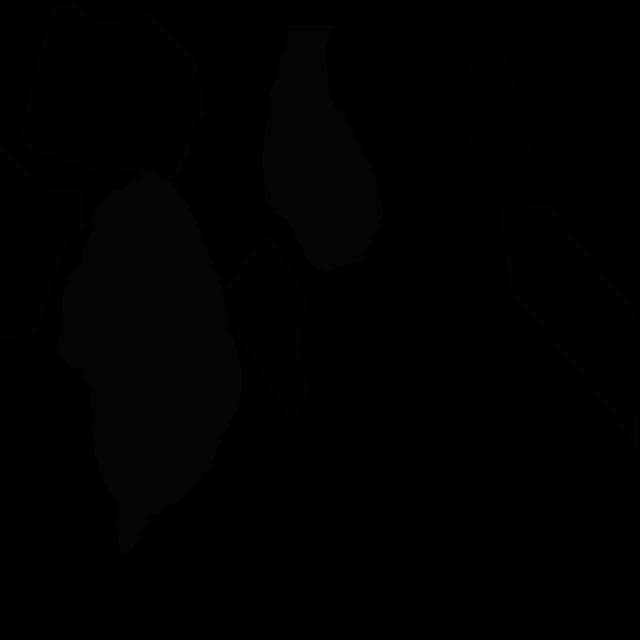cardboard: (501, 204, 640, 455), (20, 1, 206, 179), (0, 146, 86, 342), (222, 236, 310, 418)
rigid_plastic: (459, 47, 546, 218)
soft_plastic: (56, 169, 242, 556), (262, 25, 383, 273)
